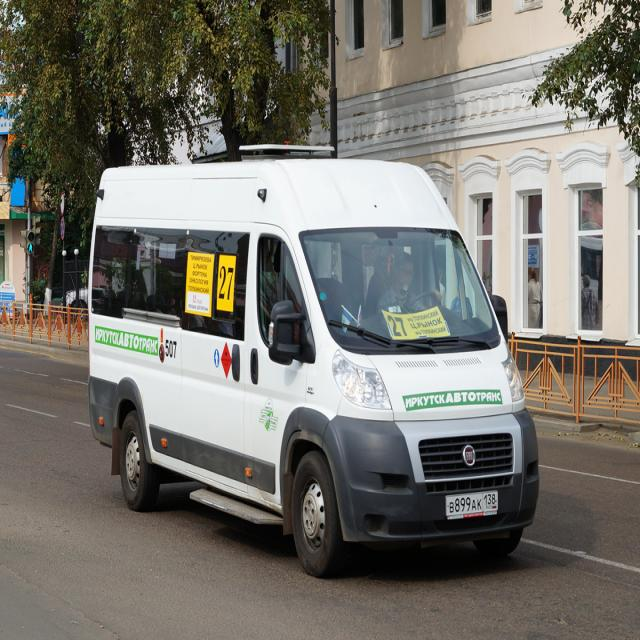number-of-bus: (218, 266, 237, 307), (386, 313, 410, 340)
